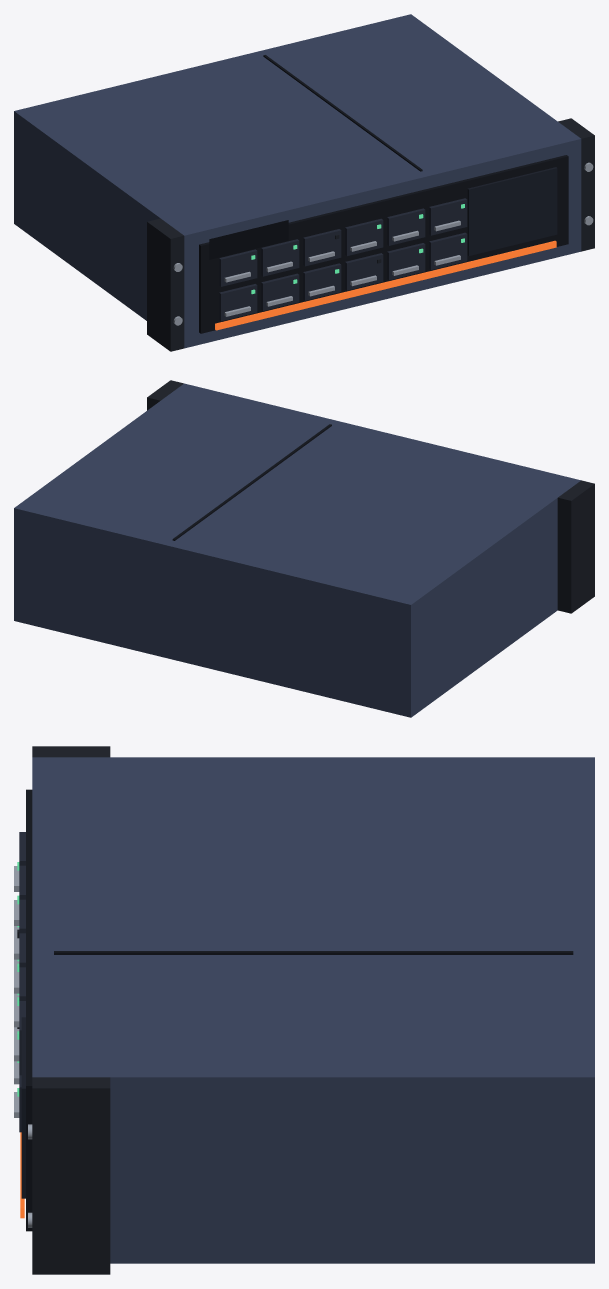
The model's file is server.glb.
The picture shows the model from 3 angles, top to bottom: view 1: azimuth 30°, elevation 25°; view 2: azimuth 150°, elevation 25°; view 3: azimuth 270°, elevation 25°; orthographic projection. The views are drawn at different scales.
Parts seen in each view (by area): view 1: body (×2), bay (×12), bezel, ear (×2), grille, status, plate, seam; view 2: body (×2), ear, seam; view 3: body (×2), ear (×2), bezel, seam, grille.
Boxes of the visible parts, box(x1,y1,x2,y2) form: body (×2): box(14, 14, 581, 348); bay (×12): box(219, 198, 467, 321); bezel: box(199, 155, 568, 333); ear (×2): box(147, 118, 594, 351); grille: box(467, 167, 557, 255); status: box(215, 240, 556, 330); plate: box(209, 220, 288, 259); seam: box(263, 55, 422, 171); body (×2): box(14, 383, 580, 717); ear: box(557, 480, 594, 613); seam: box(172, 424, 331, 540); body (×2): box(32, 757, 594, 1263); ear (×2): box(32, 746, 110, 1274); bezel: box(26, 789, 32, 1231); seam: box(54, 951, 573, 954); grille: box(21, 1017, 25, 1198).
Size of the model in its own units: 3.74 by 0.961 by 2.68.
